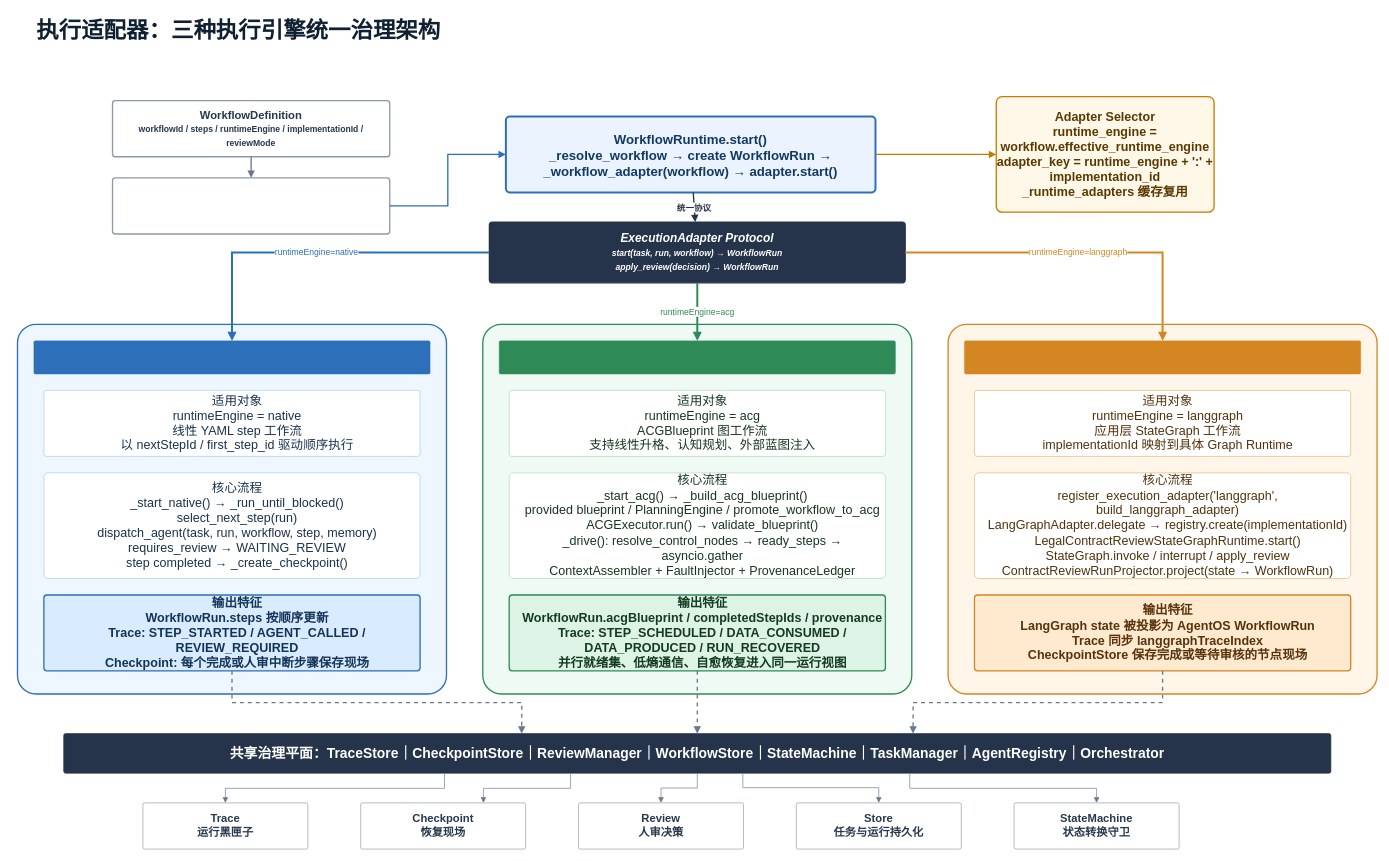
This 1389x861 diagram has some shape labels left out. The shapes that lost their labels are listed below. From the top down, each one's centre as x and y in pixels, then its label:
At pixel 251 205: "AgentTask + WorkflowRun taskId / input / currentStepId / status / steps".
At pixel 231 357: "Engine A：NativeWorkflowAdapter".
At pixel 697 357: "Engine B：ACGWorkflowAdapter".
At pixel 1162 357: "Engine C：LangGraphAdapter".
